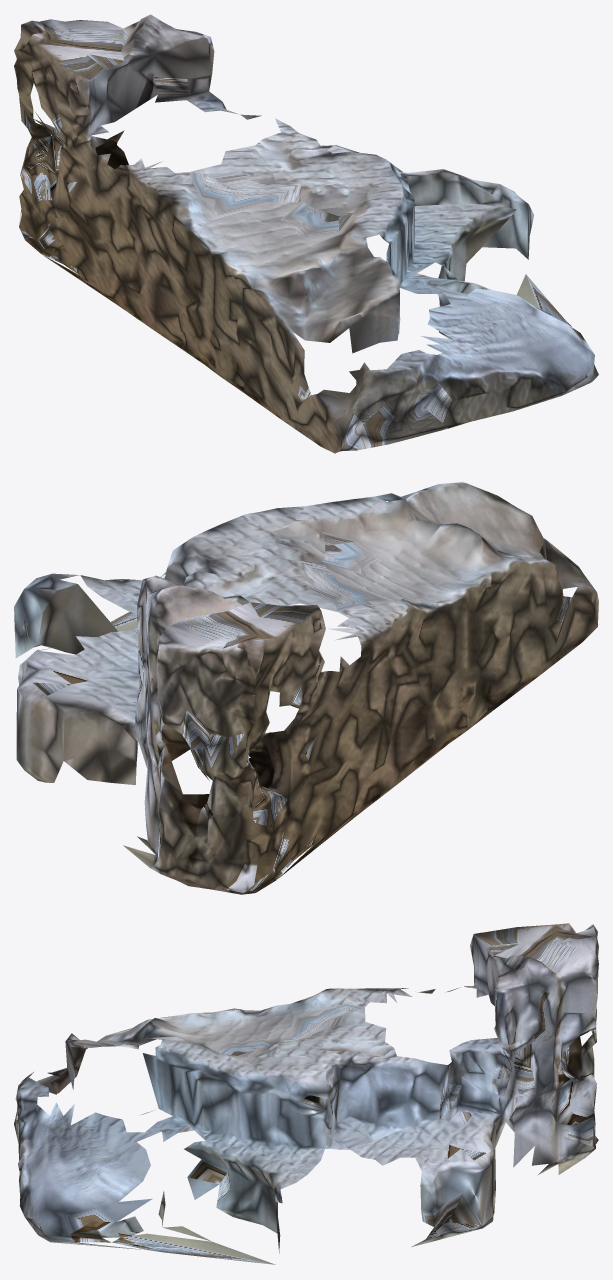
File: model-4_collider.glb
3 renders of one model, top to bottom at view 1: azimuth 30°, elevation 25°; view 2: azimuth 150°, elevation 25°; view 3: azimuth 270°, elevation 25°, orthographic. The views are drawn at different scales.
Parts seen in each view (by area): view 1: COLLIDER; view 2: COLLIDER; view 3: COLLIDER.
Boxes of the visible parts, left/top/right/bottom form: COLLIDER: left=14, top=14, right=598, bottom=453; COLLIDER: left=14, top=482, right=598, bottom=894; COLLIDER: left=14, top=923, right=598, bottom=1264.
Bounding box in the file's own units: 0.7075 × 0.4191 × 1.09.
1 material, 1 textured.
